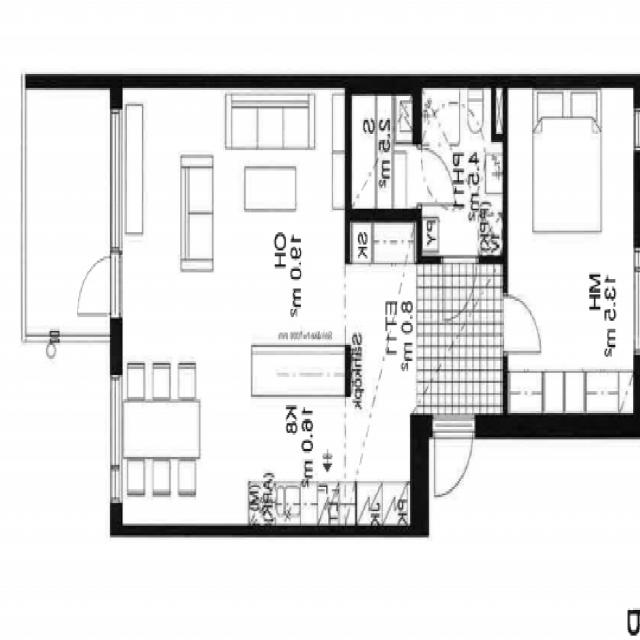door: (435, 413, 472, 502), (77, 257, 122, 314), (442, 256, 476, 320), (417, 149, 455, 205), (504, 296, 540, 352)
